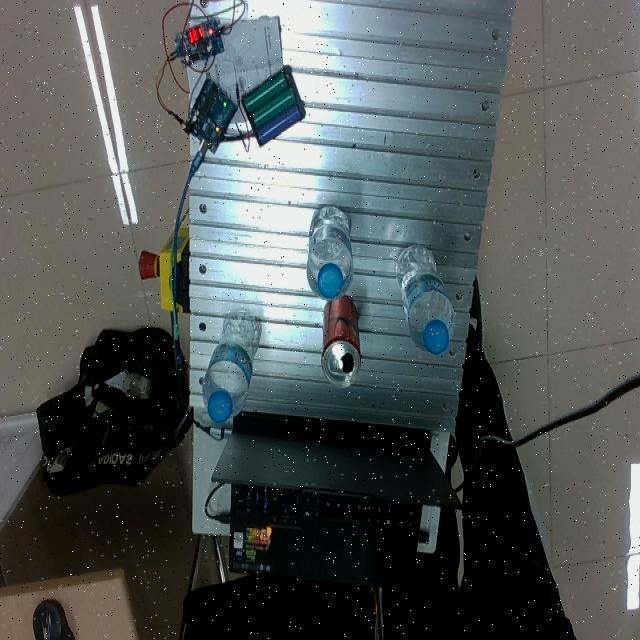coca: (321, 296, 362, 388)
lavie: (394, 244, 456, 356), (202, 311, 261, 425), (306, 207, 353, 300)
